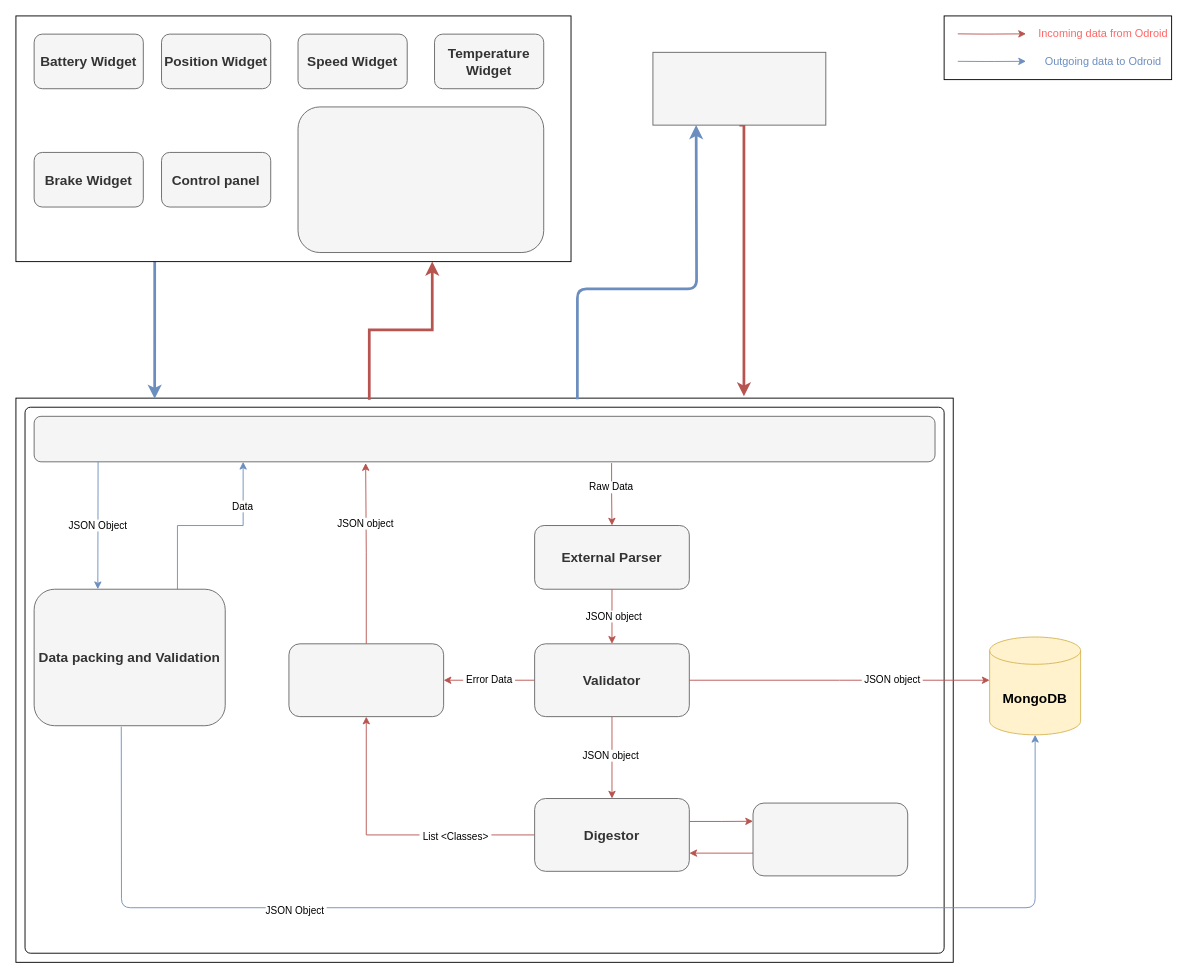
Image size: 1197x978. Some labels were removed from this diagram. Here are the shapes that lost their labels. From the top down, the centre of each, then its label:
At [739,88]: "Odroid C++ Socket".
At [420,179]: "Bird's eye view of the pod".
At [484,438]: "Websocket".
At [366,680]: "Encapsulate".
At [830,839]: "Classes".
